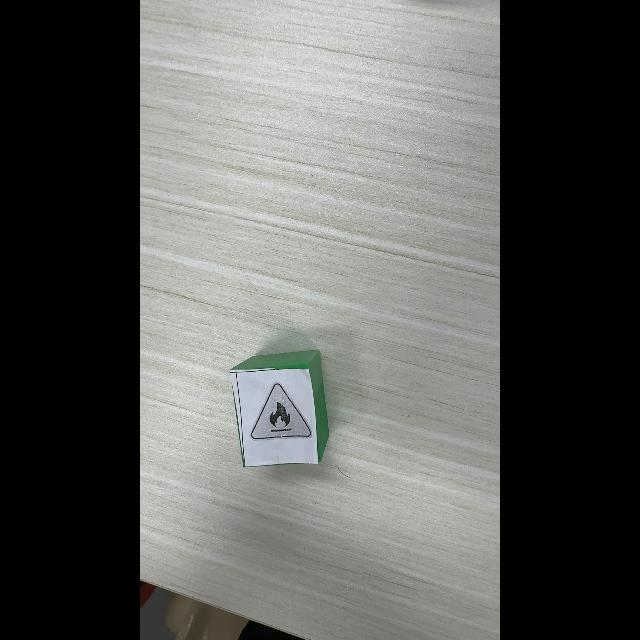Fire: (251, 383, 311, 440)
